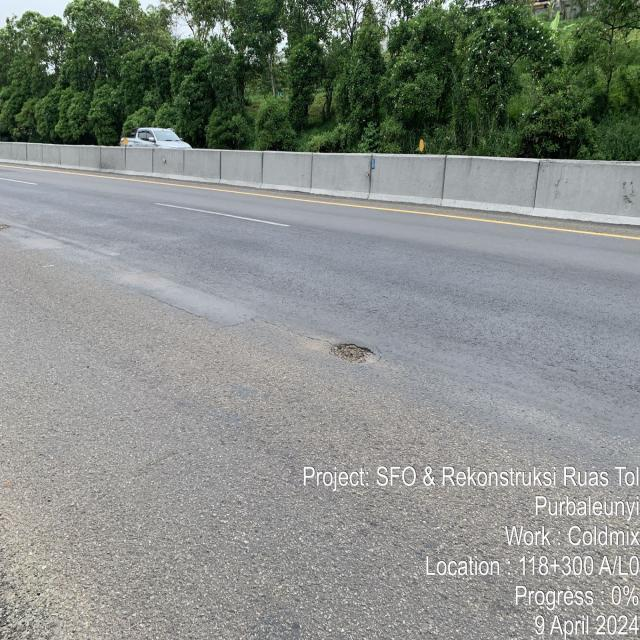Buraco: (326, 341, 379, 366), (0, 222, 12, 231)
